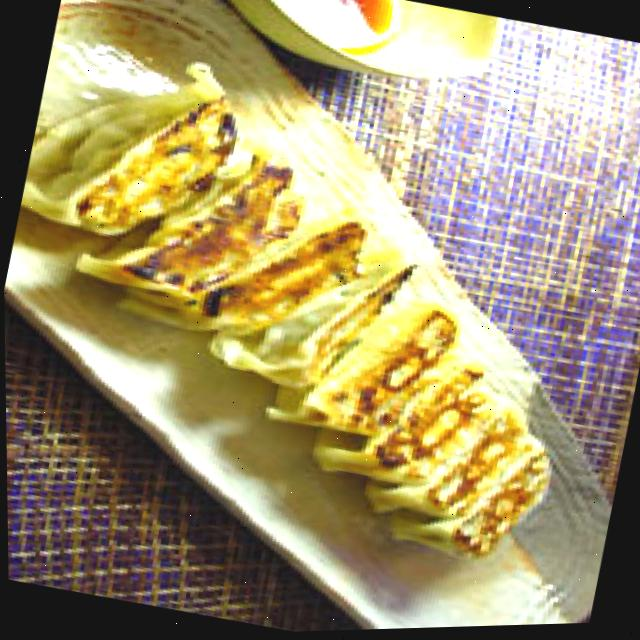带馅早点: (1, 50, 627, 607)
